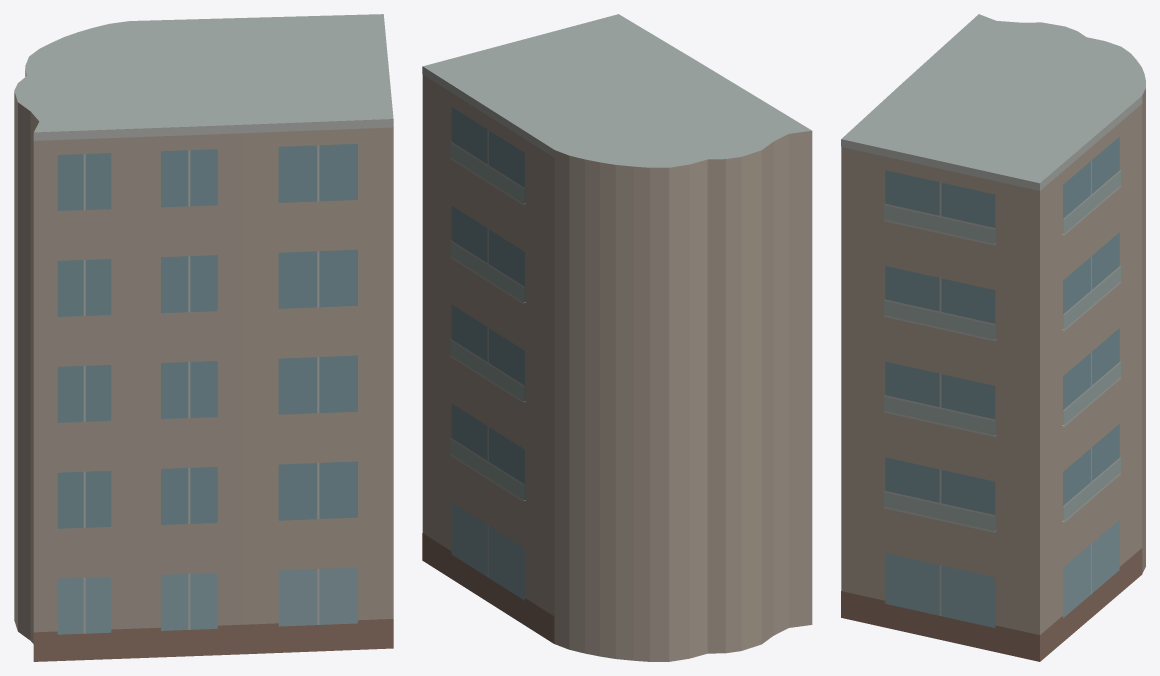
The model's file is survey-upis-32727888.glb.
3 views of the same model, side by side, from view 1: azimuth 30°, elevation 25°; view 2: azimuth 150°, elevation 25°; view 3: azimuth 270°, elevation 25° (orthographic). The views are drawn at different scales.
Visible parts, largest first — view 1: survey-upis-32727888.tmp; view 2: survey-upis-32727888.tmp; view 3: survey-upis-32727888.tmp.
Boxes of the visible parts, x1=… form: survey-upis-32727888.tmp: x1=14, y1=14, x2=393, y2=661; survey-upis-32727888.tmp: x1=422, y1=14, x2=812, y2=661; survey-upis-32727888.tmp: x1=841, y1=14, x2=1145, y2=661.
Size of the model in its own units: 11.58 by 15.25 by 8.81.
